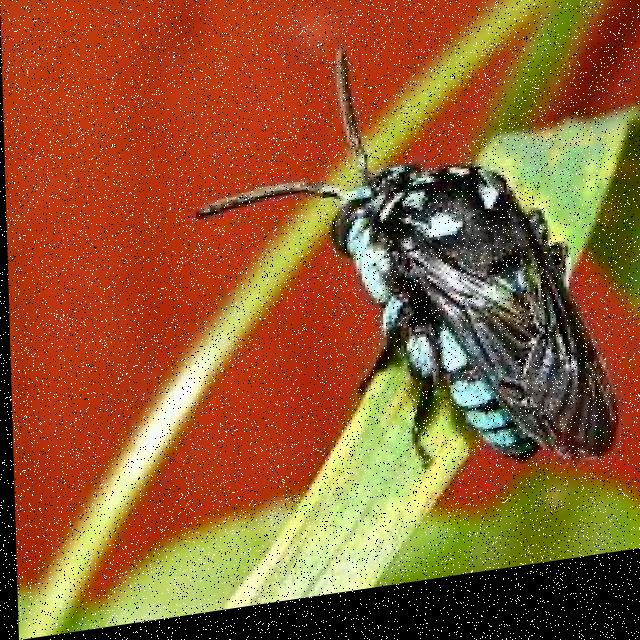Thyreus: (220, 8, 629, 510)
